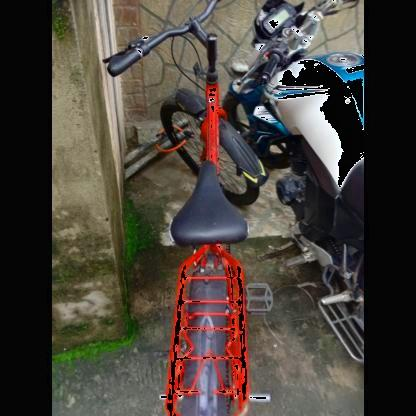Bicycle: (73, 0, 298, 416)
